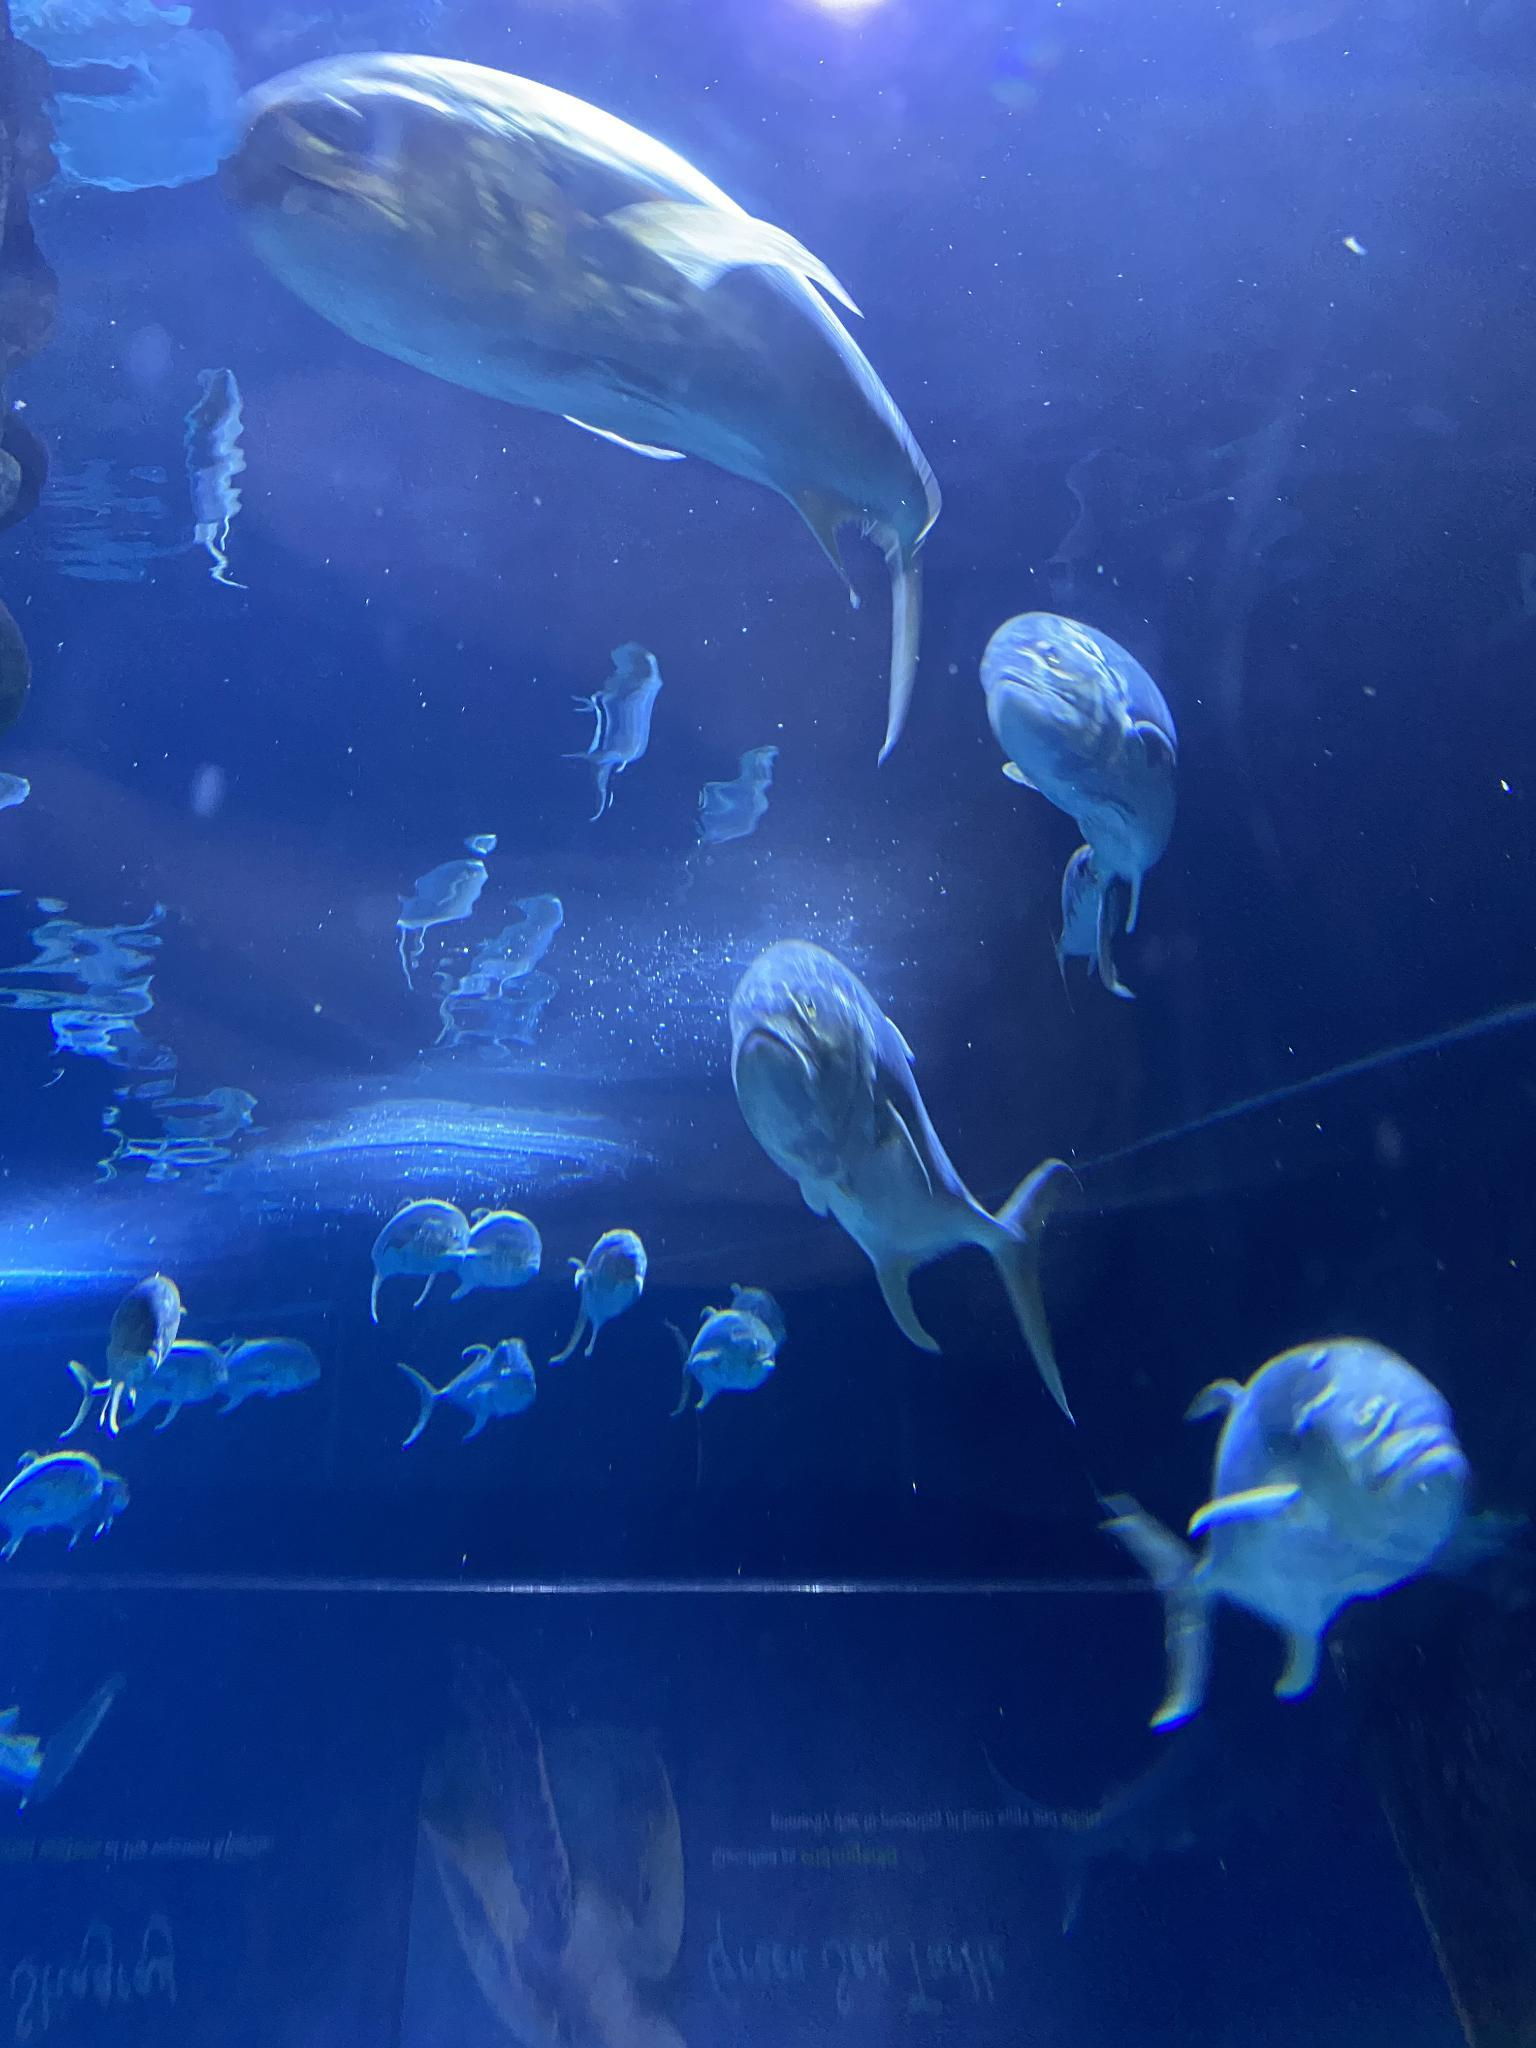fish: (227, 53, 944, 766), (728, 939, 1076, 1417), (1102, 1335, 1468, 1730), (978, 610, 1179, 1001), (402, 1342, 537, 1445), (368, 1201, 476, 1330), (561, 1229, 649, 1361), (670, 1305, 778, 1411), (65, 1356, 219, 1430), (106, 1277, 177, 1427), (0, 1450, 98, 1558), (189, 1335, 319, 1413), (0, 1471, 131, 1543), (453, 1214, 541, 1288)
